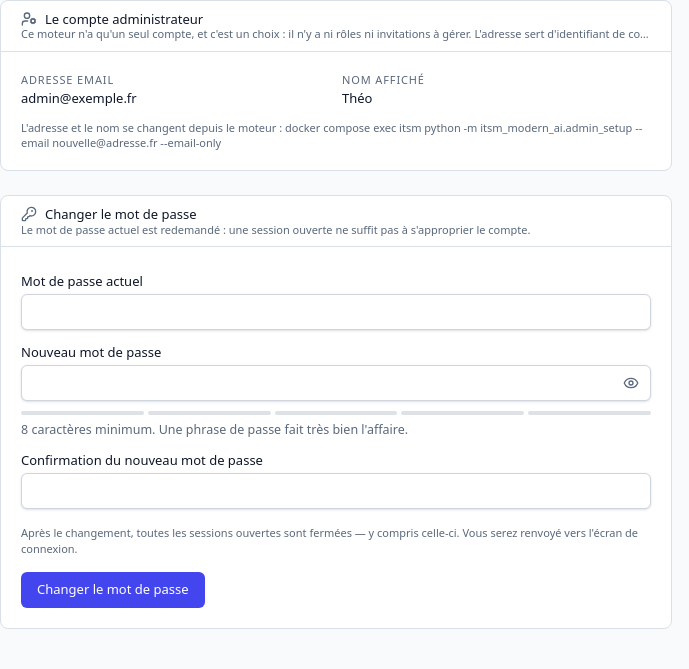
Scenario: Account — compte & sécurité › refuse une confirmation qui diverge
Type "ancien-mot-passe" into the password field labelled "Mot de passe actuel" at (336, 312), box 21,294 -> 651,330
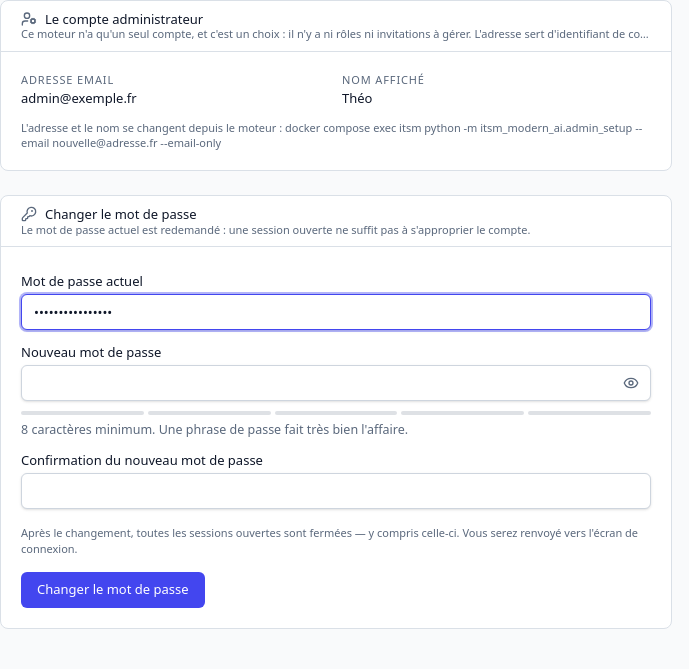
Type "n0uveau-mot-de-passe" into the password field labelled "Nouveau mot de passe" at (336, 383), box 21,365 -> 651,401
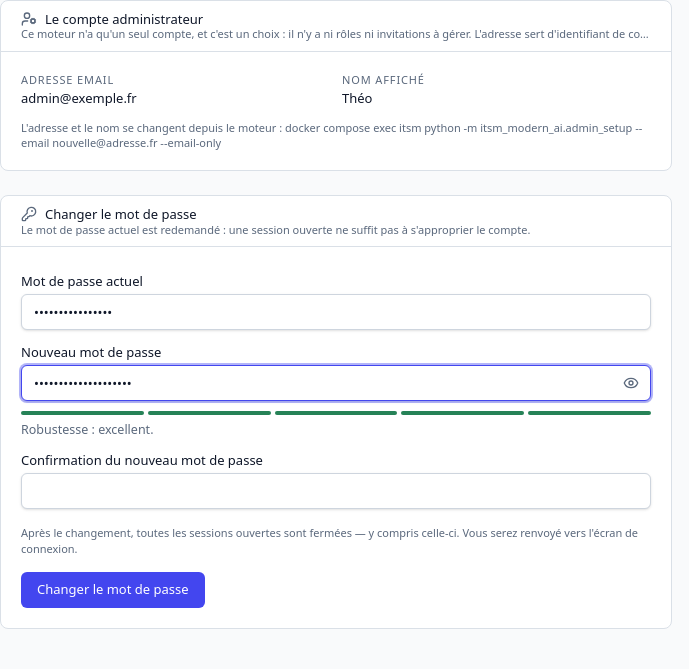
Type "autre-chose" into the password field labelled "Confirmation du nouveau mot de passe" at (336, 491), box 21,473 -> 651,509
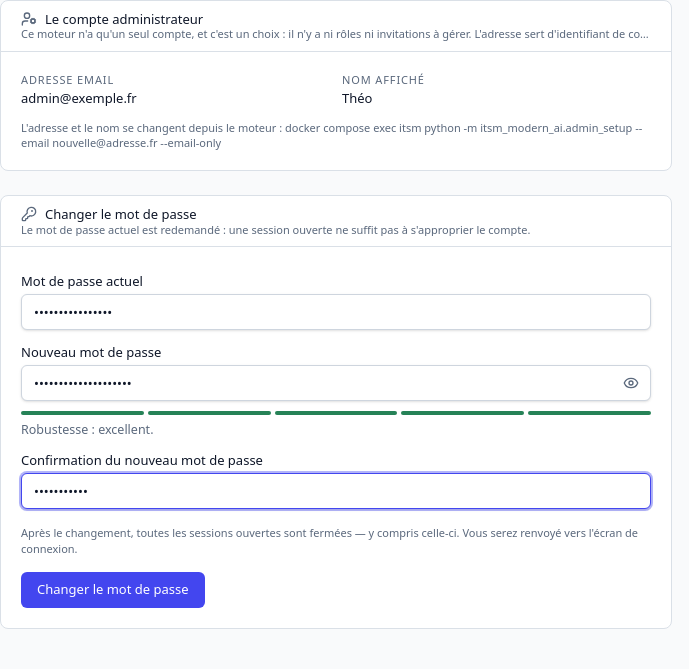
Click the button "Changer le mot de passe" at (113, 590), box 21,572 -> 205,608
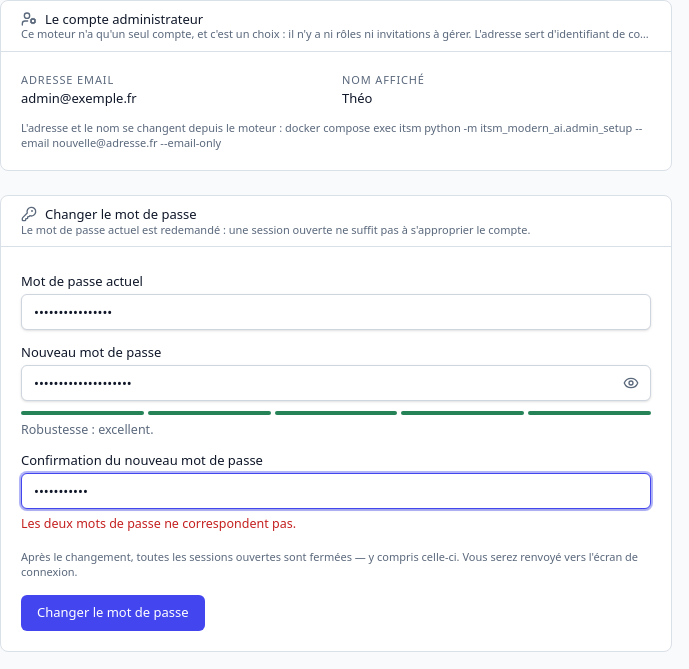
Expected: the text "Les deux mots de passe ne correspondent pas." is shown, 21,515 -> 296,532
